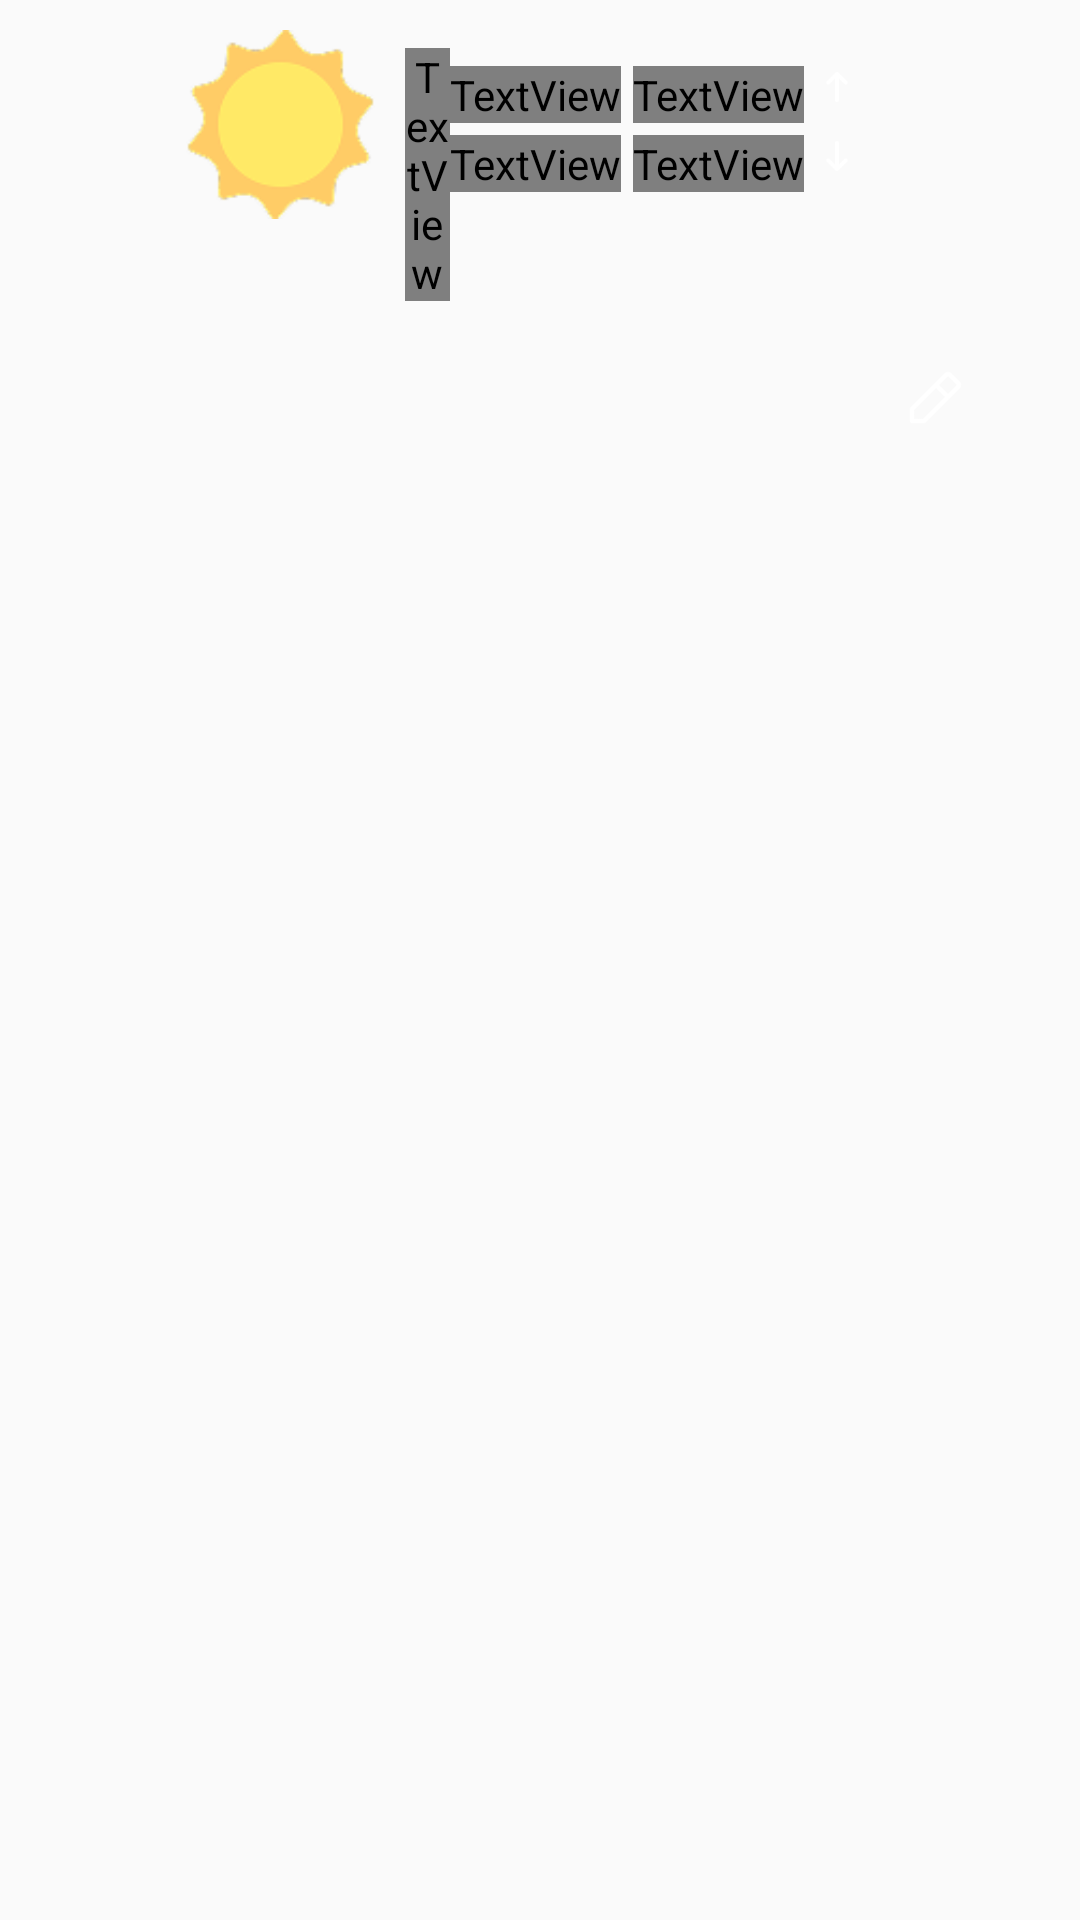

Icons on this 1080px x 1920px Android screen, each with the point to tap as [x,y]:
weather sunny: [281,124]
